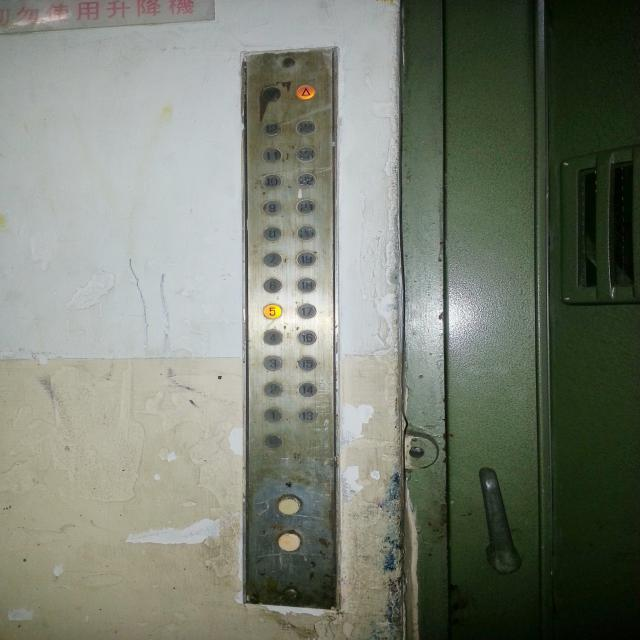1: (264, 408, 283, 423)
10: (262, 172, 282, 190)
11: (262, 147, 281, 162)
12: (261, 121, 281, 136)
13: (297, 408, 318, 424)
14: (298, 382, 317, 397)
15: (297, 356, 317, 372)
16: (298, 330, 317, 346)
17: (297, 304, 316, 318)
18: (296, 276, 316, 292)
19: (296, 251, 316, 267)
2: (263, 382, 284, 397)
20: (297, 226, 316, 240)
21: (296, 198, 317, 214)
22: (296, 172, 317, 188)
23: (296, 146, 317, 162)
24: (296, 118, 316, 136)
3: (263, 357, 282, 370)
4: (263, 330, 282, 345)
5: (262, 304, 282, 318)
6: (262, 277, 282, 292)
7: (262, 251, 283, 267)
8: (262, 225, 282, 242)
9: (261, 200, 282, 216)
G: (263, 433, 283, 449)
down: (262, 87, 280, 101)
empty: (278, 493, 302, 515), (278, 533, 301, 552)
up: (296, 85, 314, 99)
